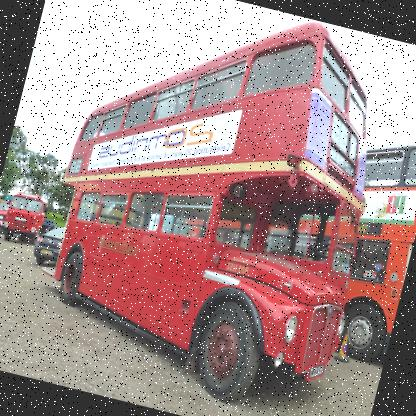Car: (32, 223, 65, 269)
